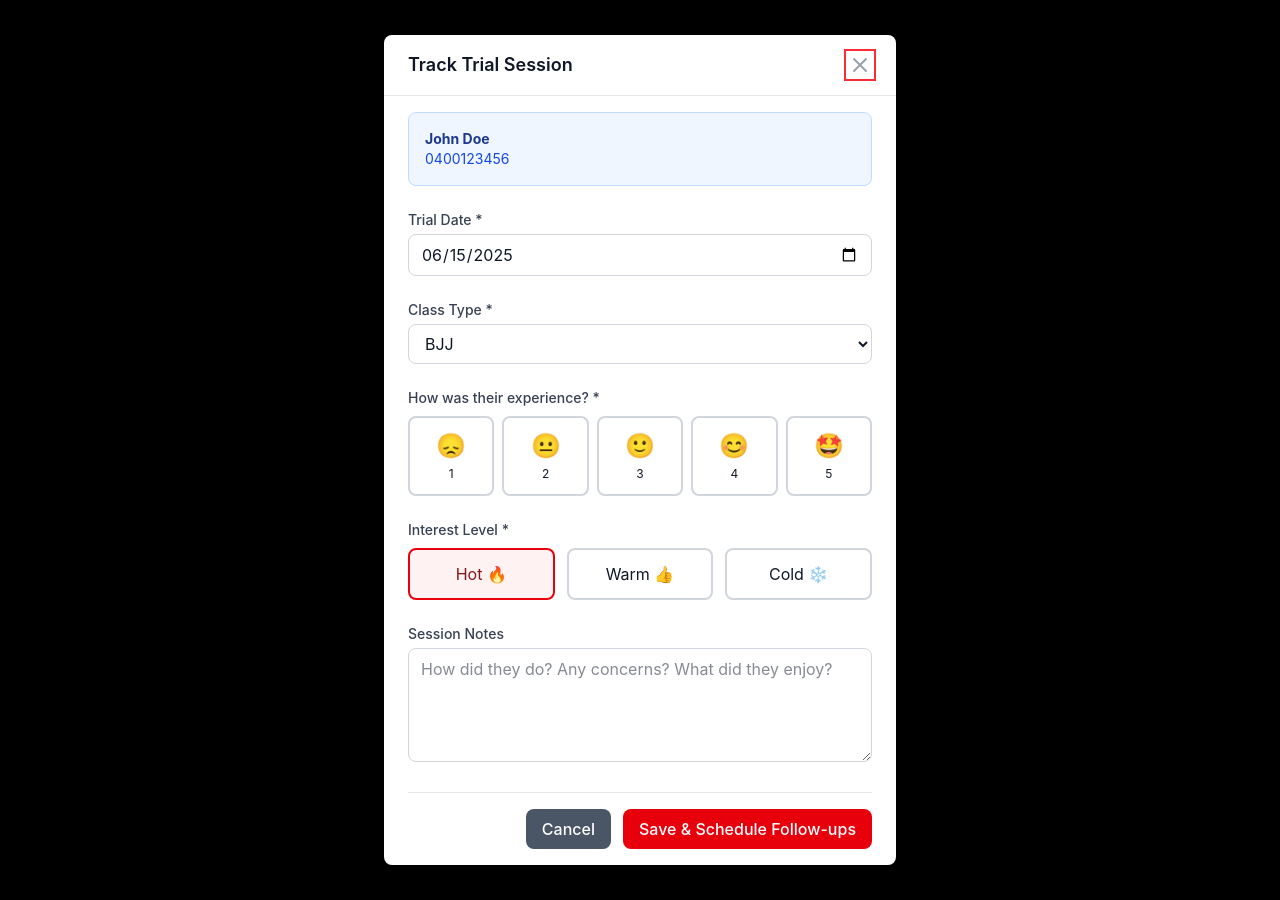
TrialTrackingModal › disables button while saving
Click the button "Save & Schedule Follow-ups": [748, 829] box [623,809,872,849]
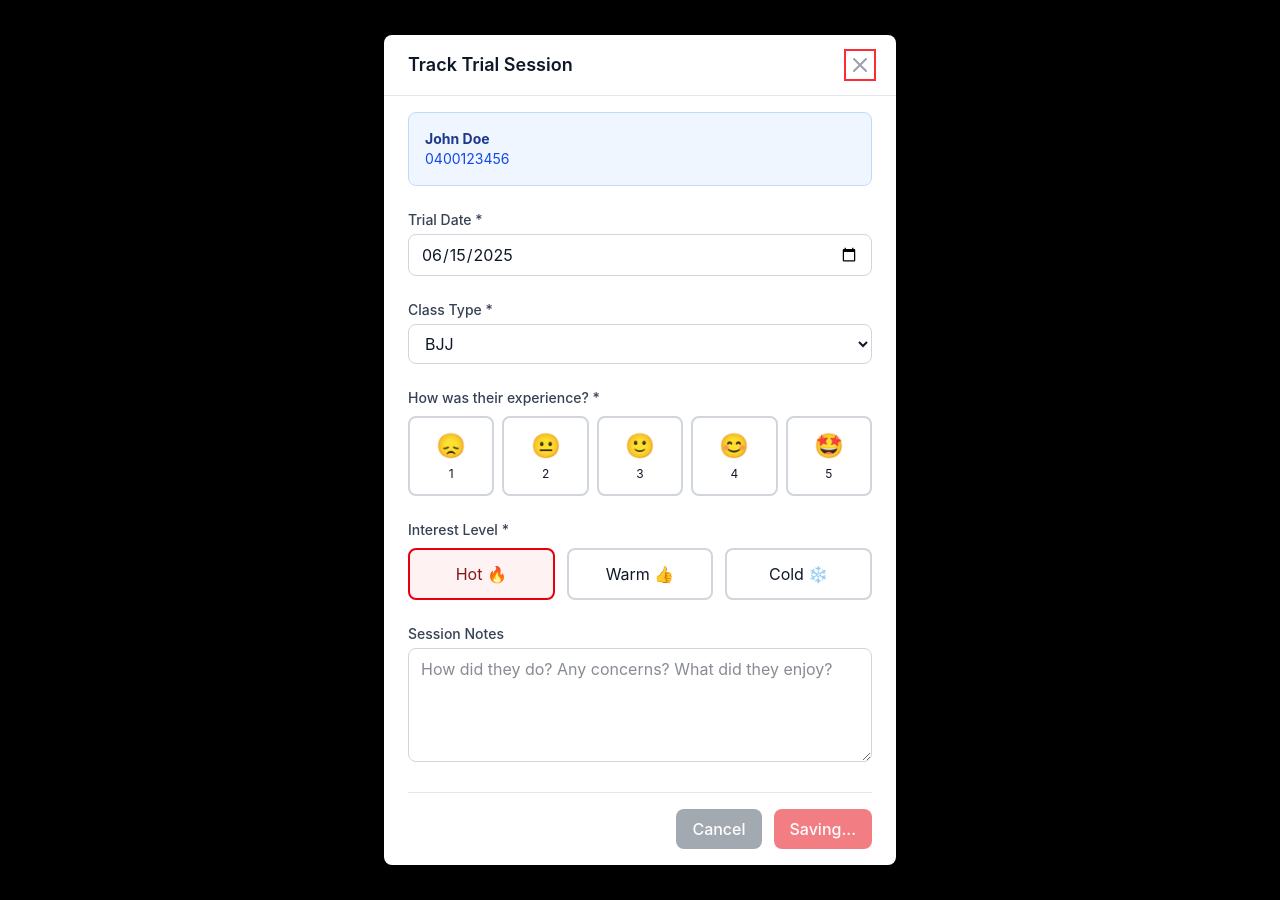
Expected: the button "Saving..." is disabled, [774,809,872,849]
